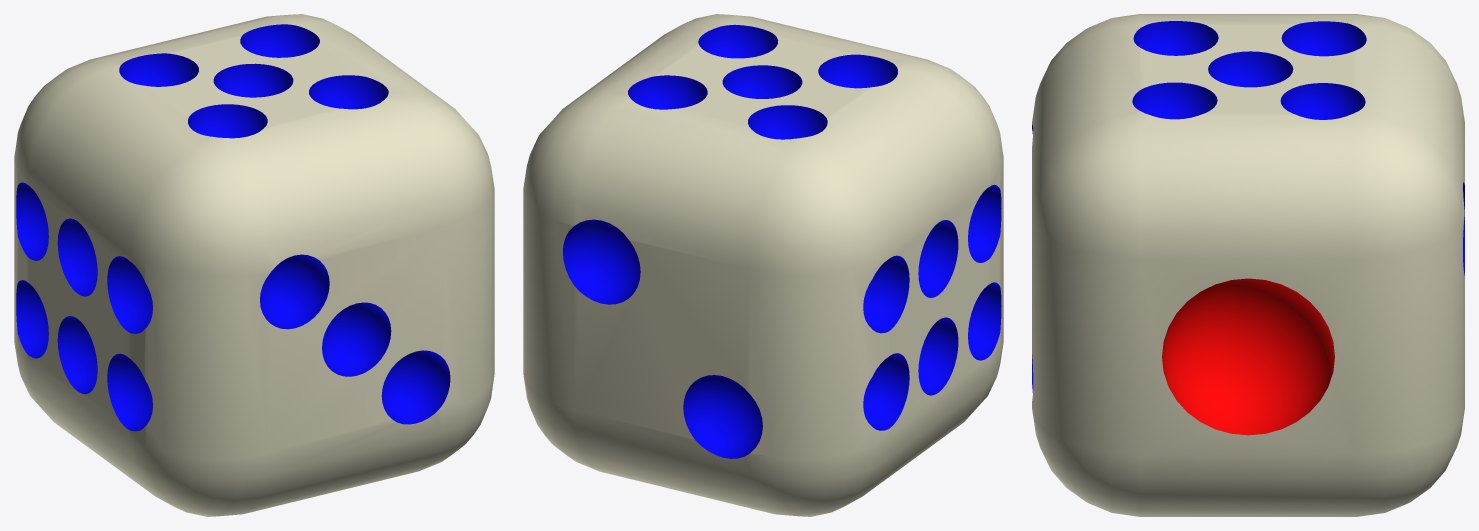
The picture shows the model from 3 angles, left to right: view 1: azimuth 30°, elevation 25°; view 2: azimuth 150°, elevation 25°; view 3: azimuth 270°, elevation 25°; orthographic projection. The views are drawn at different scales.
Parts seen in each view (by area): view 1: Cube.006; view 2: Cube.006; view 3: Cube.006.
Part boxes in pixels (box(x1,y1,x2,y2)): Cube.006: box(14, 14, 494, 516); Cube.006: box(523, 14, 1003, 516); Cube.006: box(1032, 14, 1464, 516).
Size of the model in its own units: 2 by 2 by 2.
